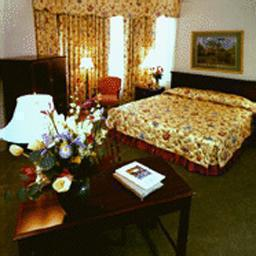Cama: (108, 80, 254, 150)
